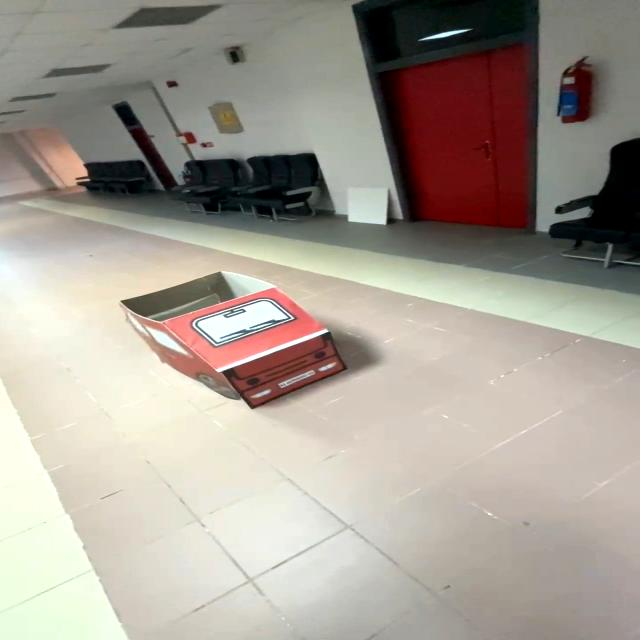red_car: (99, 258, 398, 443)
